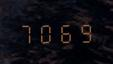nine: (75, 19, 93, 43)
seven: (18, 20, 36, 44)
six: (56, 19, 74, 43)
zero: (37, 20, 55, 44)
